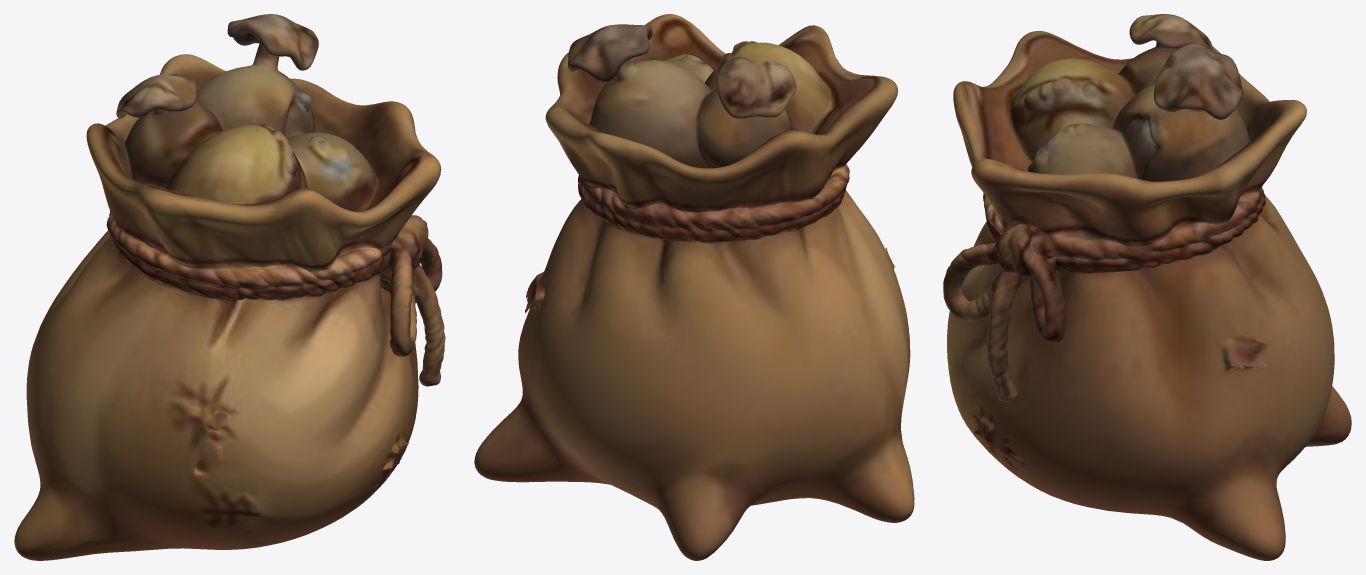
File: bao-tai.glb
3 renders of one model, left to right at view 1: azimuth 30°, elevation 25°; view 2: azimuth 150°, elevation 25°; view 3: azimuth 270°, elevation 25°, orthographic. The views are drawn at different scales.
Bounding box in the file's own units: 0.1282 × 0.149 × 0.1178.
Materials: 1 (1 with a texture image).
